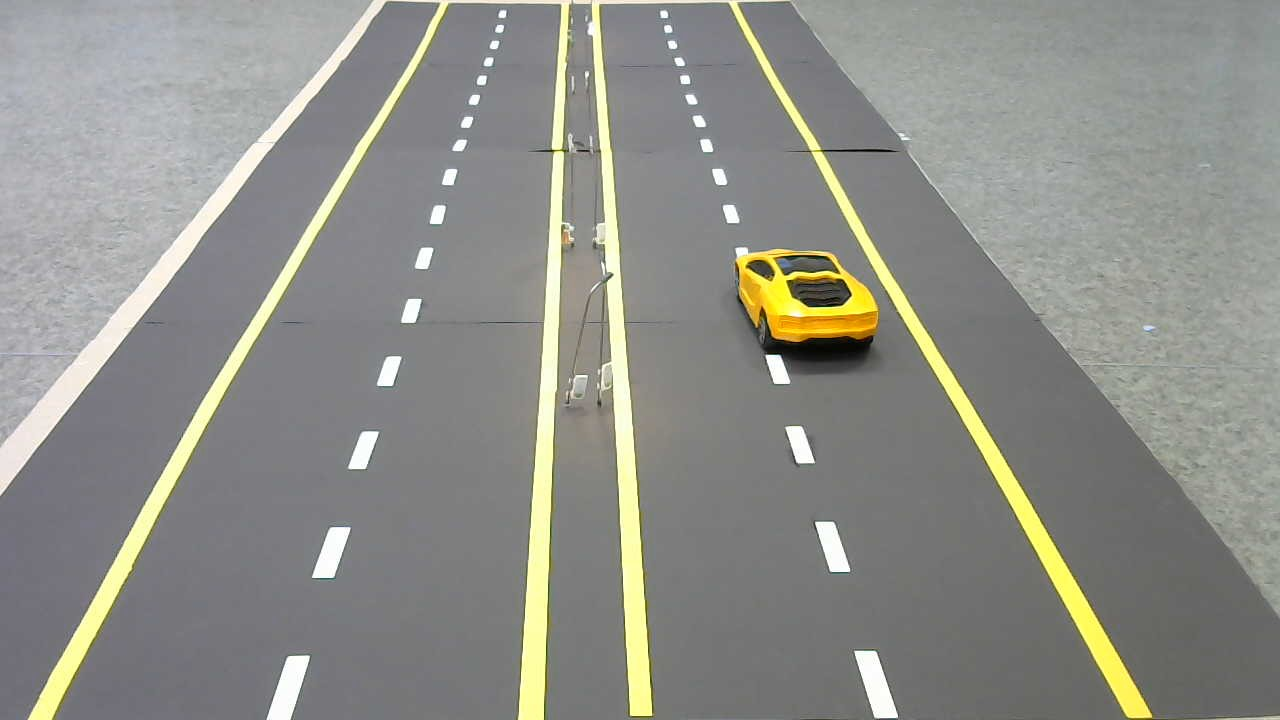back_car: (720, 245, 887, 354)
